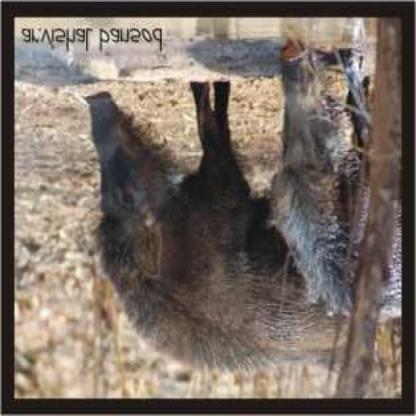boar: (74, 61, 304, 368), (250, 31, 415, 330)
